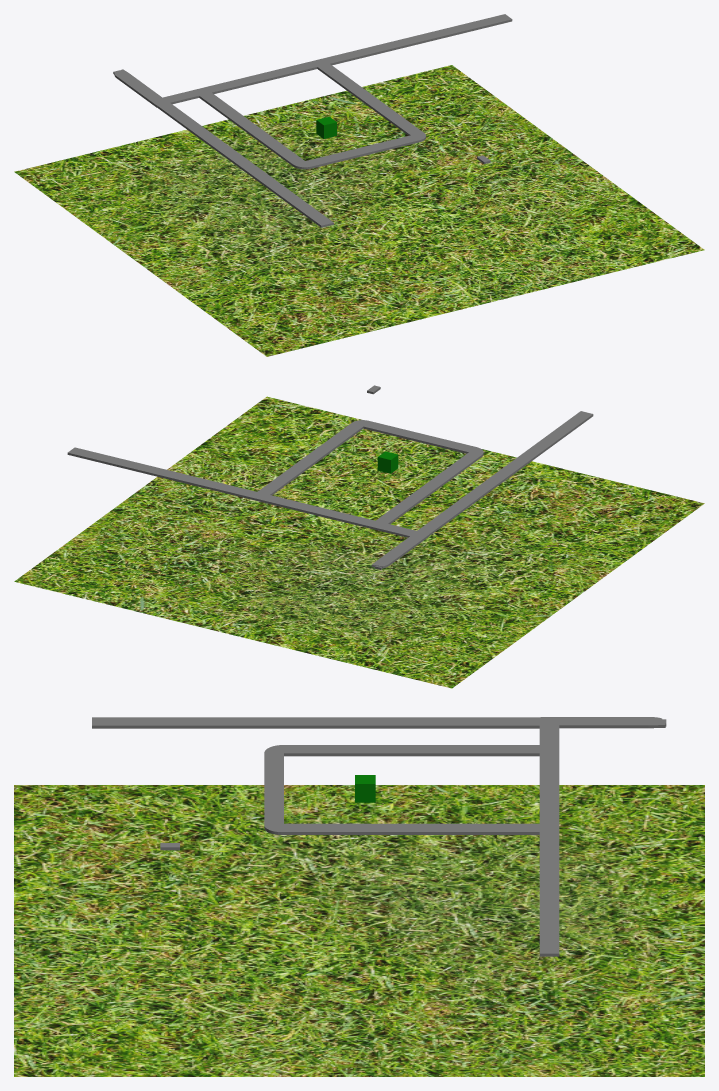
File: scena1.gltf
3 views of the same model, one above another, from view 1: azimuth 30°, elevation 25°; view 2: azimuth 150°, elevation 25°; view 3: azimuth 270°, elevation 25° (orthographic). The views are drawn at different scales.
Visible parts, largest first — view 1: Plane, Plane.002, Plane.001, Plane.005, Plane.006, Plane.004, Plane.008; view 2: Plane, Plane.002, Plane.001, Plane.005, Plane.006, Plane.004, Plane.008; view 3: Plane, Plane.001, Plane.002, Plane.005, Plane.006, Plane.004, Plane.008, Cube.
Boxes of the visible parts, x1,y1,x2,y2 form: Plane: (14, 65, 704, 356); Plane.002: (157, 14, 512, 107); Plane.001: (155, 97, 333, 227); Plane.005: (195, 89, 312, 169); Plane.006: (313, 60, 425, 142); Plane.004: (305, 132, 424, 168); Plane.008: (114, 69, 161, 107); Plane: (14, 396, 704, 688); Plane.002: (67, 447, 416, 537); Plane.001: (410, 411, 593, 536); Plane.005: (371, 448, 483, 526); Plane.006: (253, 420, 366, 497); Plane.004: (352, 420, 480, 453); Plane.008: (371, 534, 429, 568); Plane: (14, 785, 704, 1076); Plane.001: (92, 717, 558, 728); Plane.002: (539, 725, 559, 956); Plane.005: (265, 745, 551, 756); Plane.006: (264, 823, 551, 834); Plane.004: (264, 749, 283, 830); Plane.008: (541, 717, 665, 728); Cube: (355, 775, 375, 802).
Bounding box in the file's own units: 66.91 × 13.99 × 66.91.
Materials: 10 (10 with a texture image).
